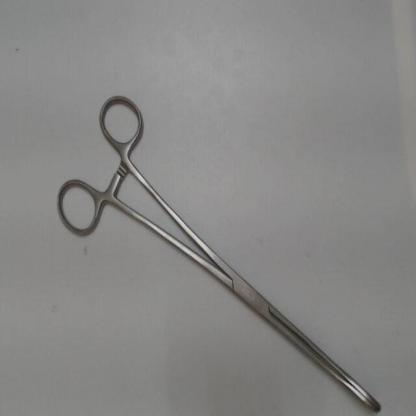Sponge Forceps: (49, 84, 389, 414)
